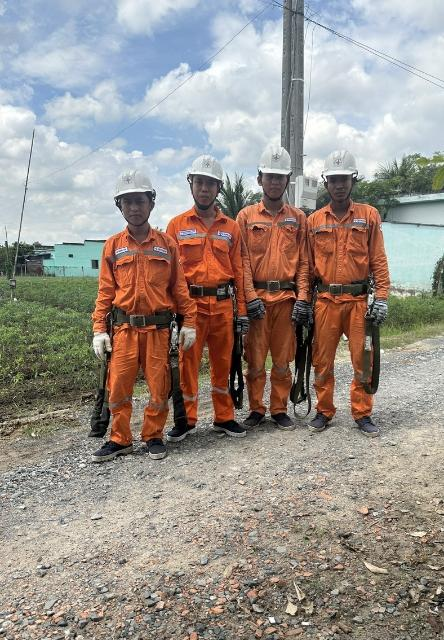gloves: (364, 296, 399, 330), (244, 294, 277, 321), (292, 295, 319, 328), (90, 328, 113, 361), (233, 309, 252, 337), (180, 328, 197, 353)
harness: (100, 297, 178, 329), (317, 273, 388, 298), (177, 275, 239, 302), (250, 272, 305, 298)
helmet: (103, 162, 158, 206), (176, 151, 227, 190), (314, 149, 363, 184), (254, 140, 297, 178)
shoes: (133, 427, 167, 465), (207, 413, 250, 442), (262, 396, 298, 430), (158, 414, 199, 443), (87, 439, 132, 465), (302, 407, 338, 437), (345, 411, 379, 438), (237, 405, 266, 431)
